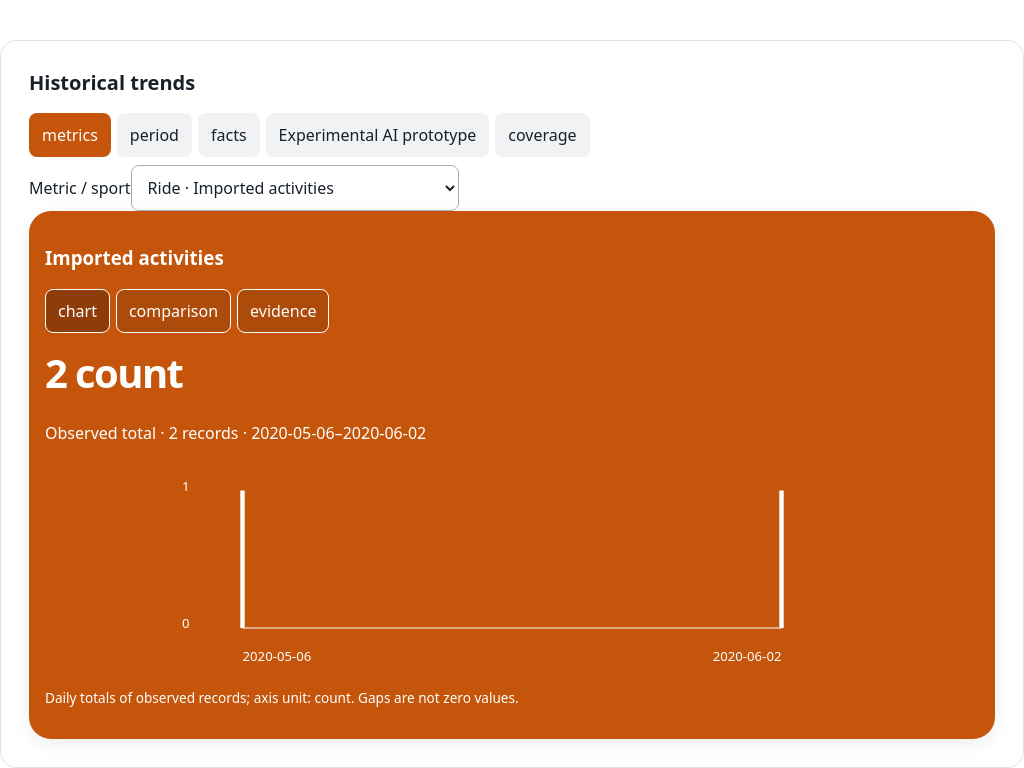
factual private trends › compact metrics remain independently usable through a prototype model API failure
Expected: the dropdown labelled "Metric / sport" is shown, [131, 165, 459, 211]
Click the button "Experimental AI prototype".
click(378, 135)  # box [266, 113, 489, 157]
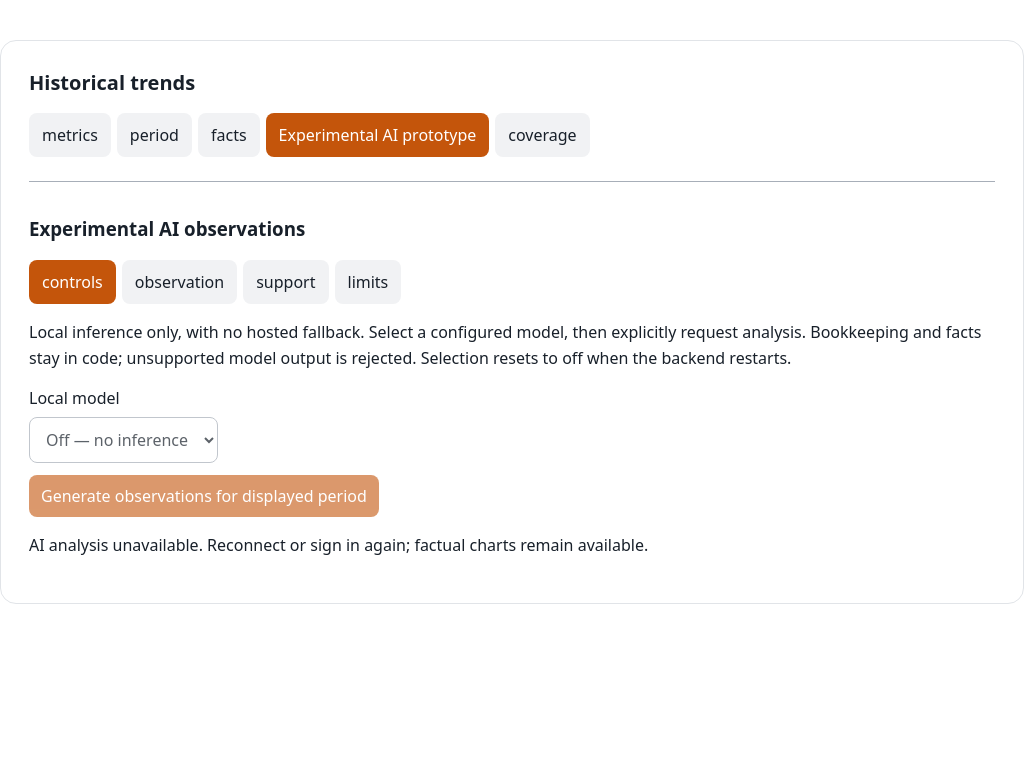
Now the text "AI analysis unavailable. Reconnect" is shown, box [29, 534, 648, 556]
Now the button "Generate observations for displayed period" is disabled, box [29, 475, 379, 517]
Click the button "metrics".
click(70, 135)  # box [29, 113, 111, 157]
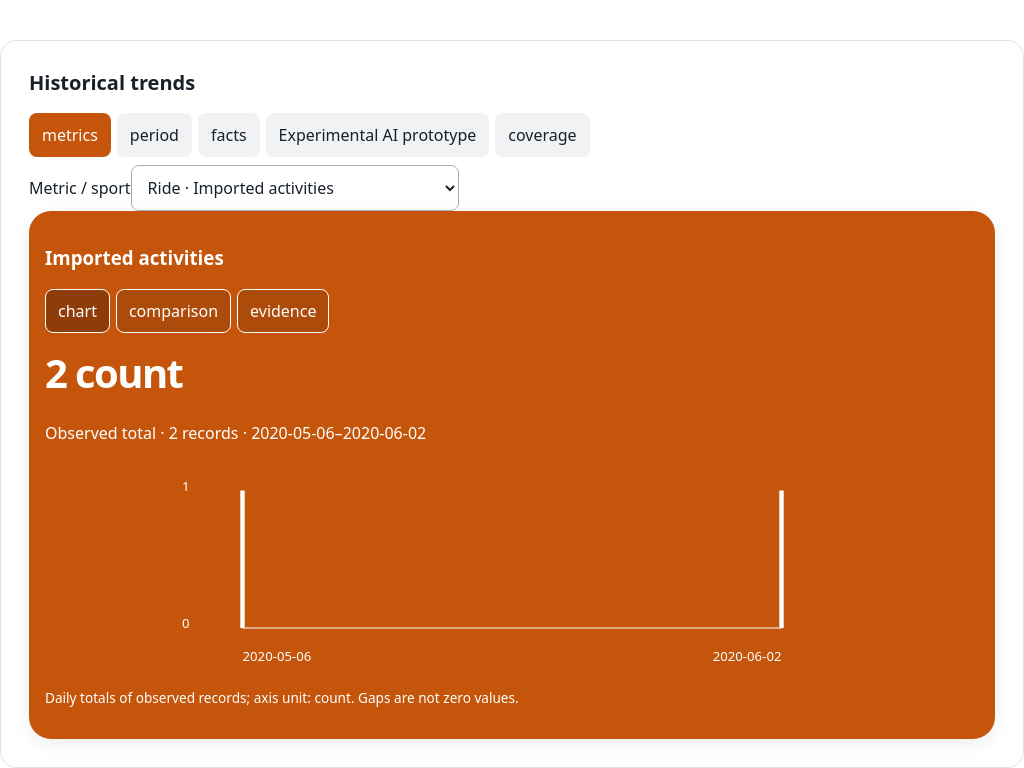
Select "Wellness · Weight" in the dropdown labelled "Metric / sport" at (295,188), box [131, 165, 459, 211]
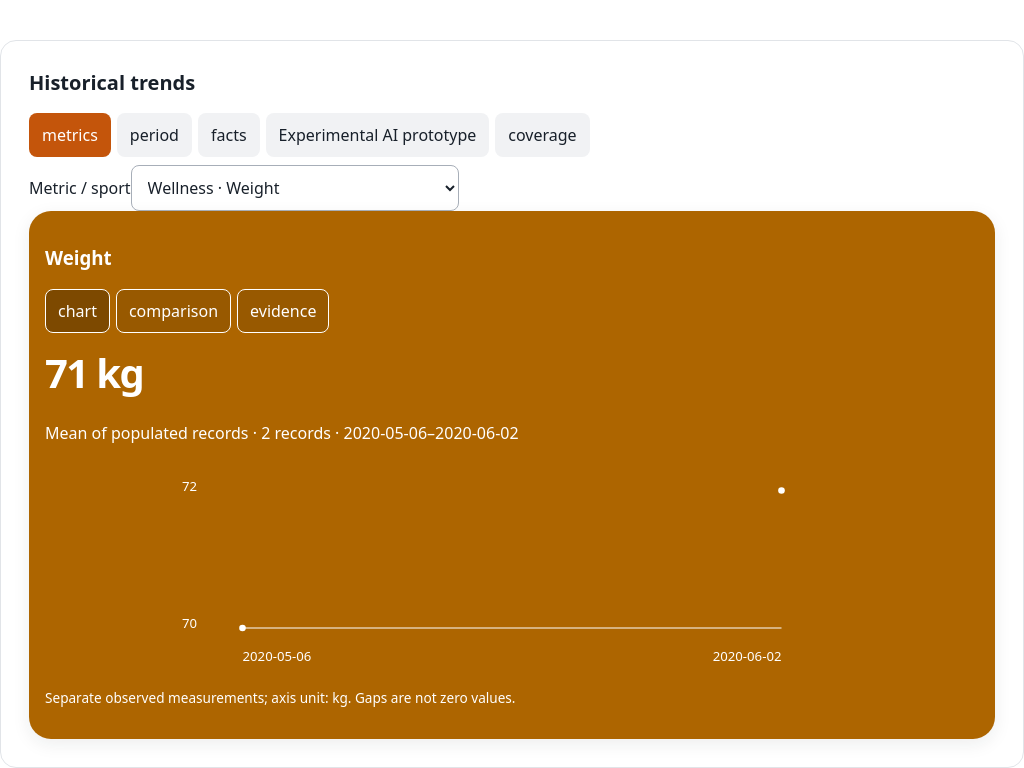
Now the text "71 kg" is shown, box [45, 345, 143, 400]
Now the picture named "Weight" is shown, box [45, 463, 979, 683]
